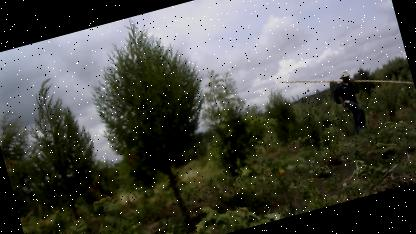person: (324, 60, 374, 138)
tree: (72, 3, 238, 234)
